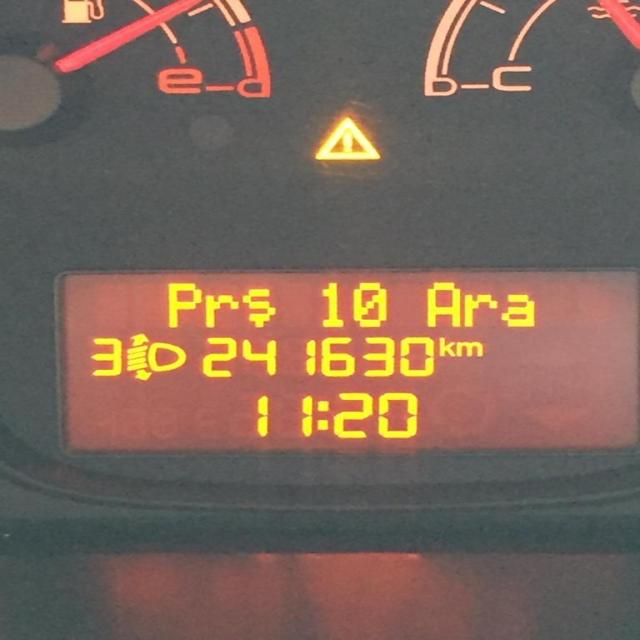odometer: (52, 264, 639, 456)
